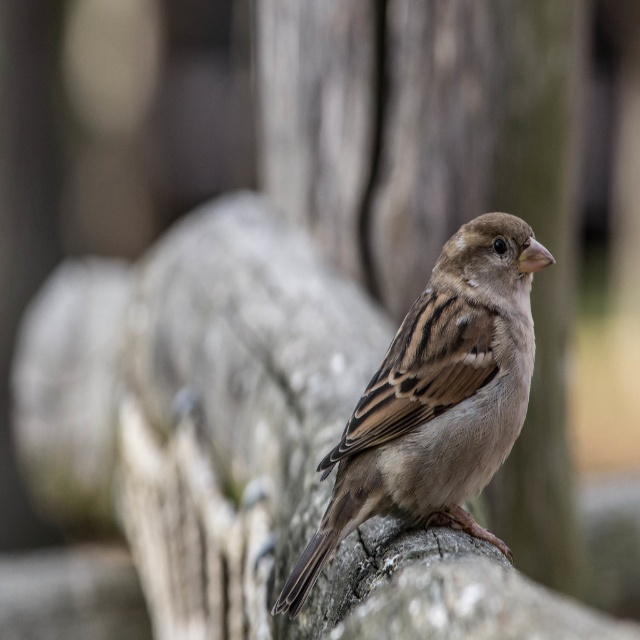Sparrow: (274, 203, 558, 631)
